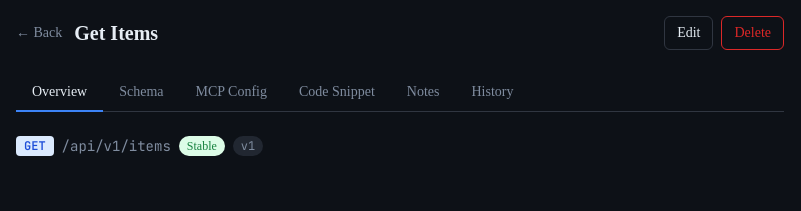
Test: ApiDetailPage — history events › shows history event in the History tab after fetching from Supabase
Expected: the heading "Get Items" is shown, [74,19,158,47]
Step 1. Click the tab "History" → (492, 93), box [456,74,530,112]
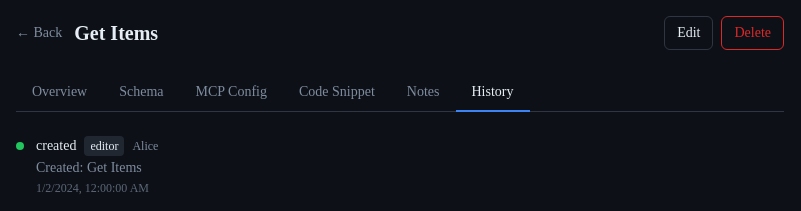
Result: the text "Created: Get Items" is shown at [36,158,158,178]
